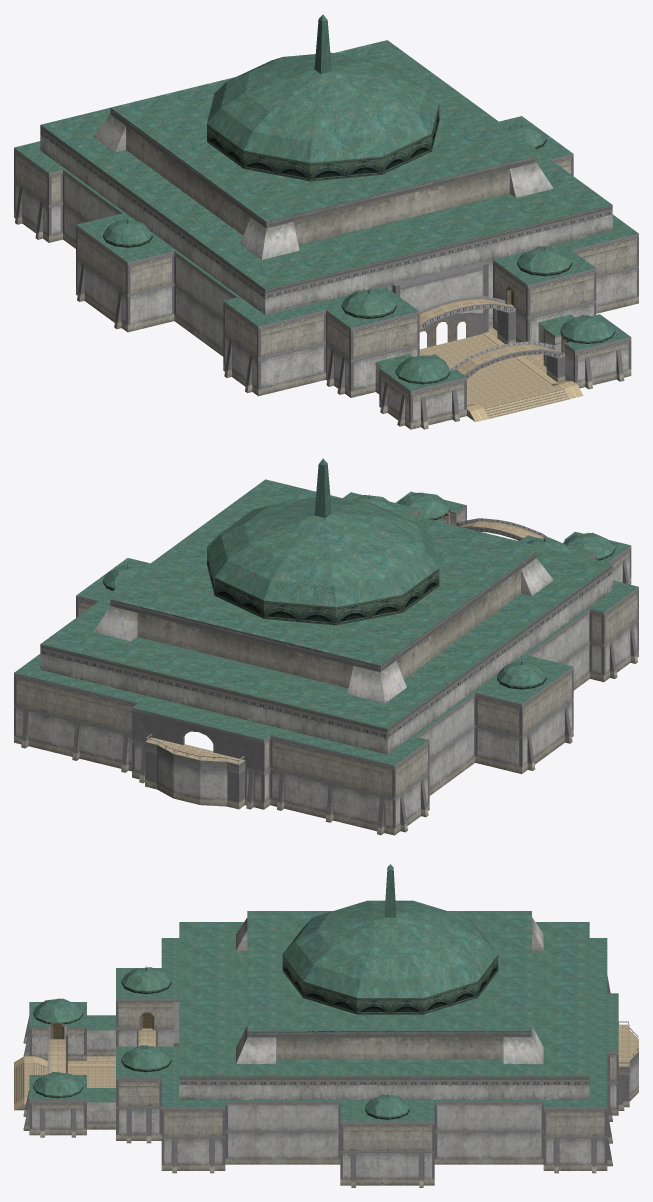
The model's file is mun_nboo_capitol_s01_r0_mesh_l2.fbx.
3 renders of one model, top to bottom at view 1: azimuth 30°, elevation 25°; view 2: azimuth 150°, elevation 25°; view 3: azimuth 270°, elevation 25°, orthographic. The views are drawn at different scales.
Parts seen in each view (by area): view 1: mesh_node; view 2: mesh_node; view 3: mesh_node.
Part boxes in pixels (left/top/right/bottom): mesh_node: left=14, top=14, right=638, bottom=429; mesh_node: left=14, top=458, right=638, bottom=835; mesh_node: left=14, top=864, right=638, bottom=1187.
Size of the model in its own units: 84.36 by 43.08 by 110.
